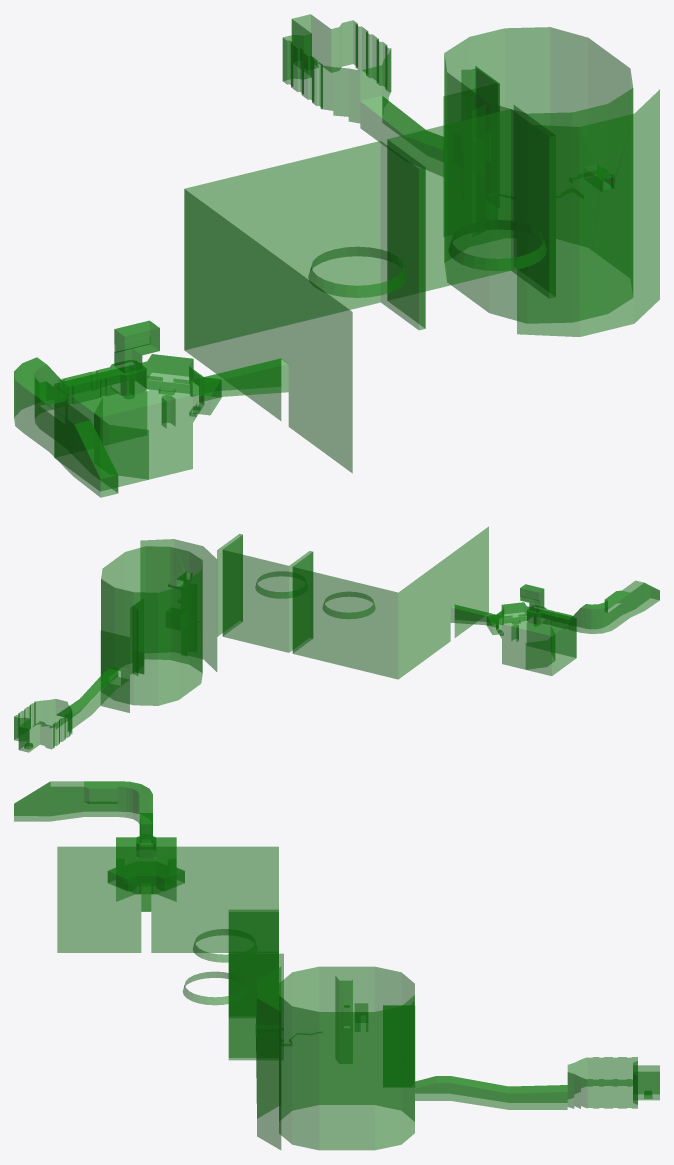
File: wall01.obj
3 renders of one model, top to bottom at view 1: azimuth 30°, elevation 25°; view 2: azimuth 150°, elevation 25°; view 3: azimuth 270°, elevation 25°, orthographic. The views are drawn at different scales.
Size of the model in its own units: 345 by 99 by 385.
